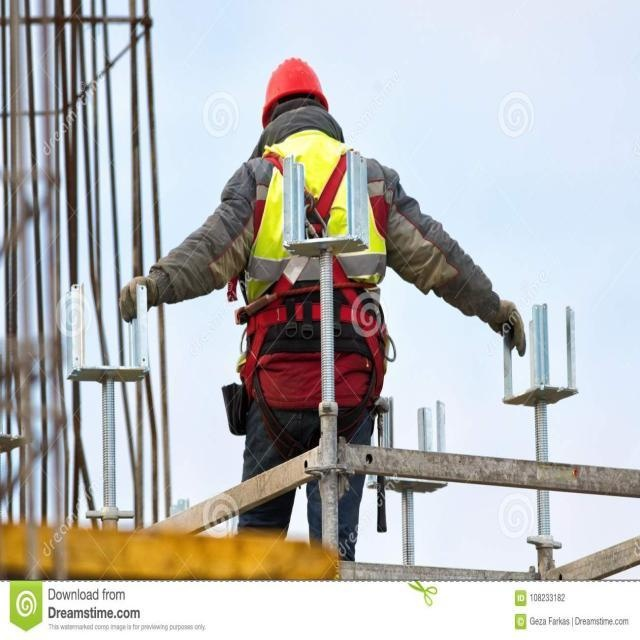Arnes_seguridad: (252, 134, 380, 353)
